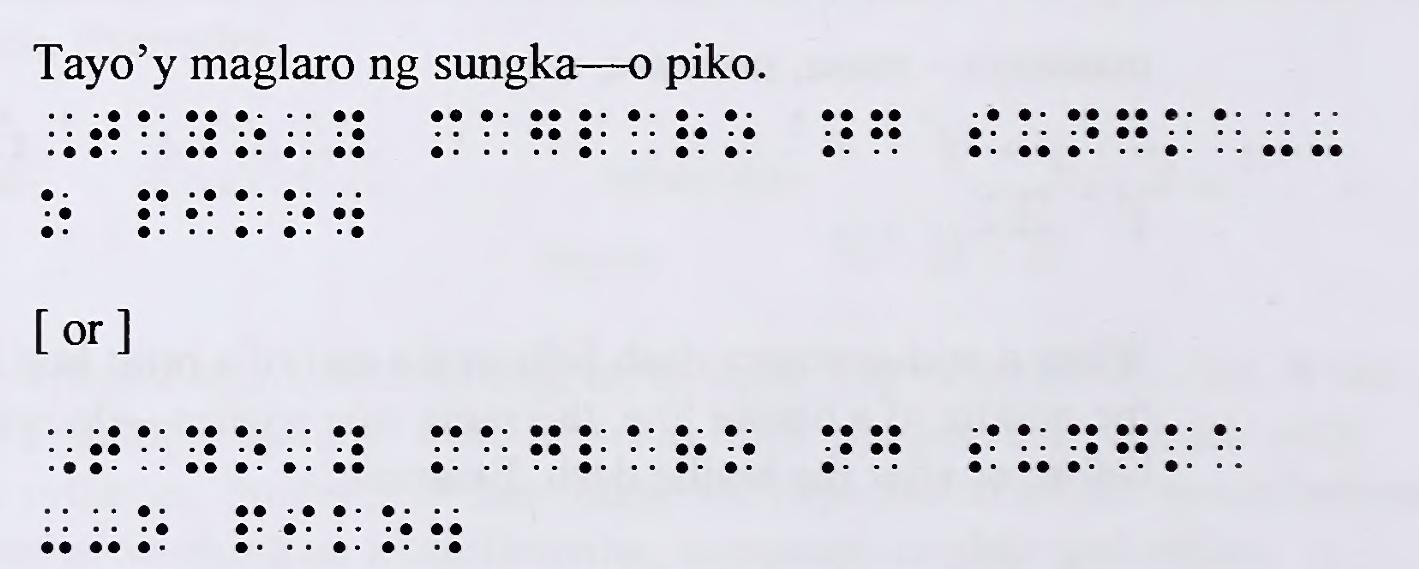T: (89, 424, 122, 474), (90, 109, 120, 159)
a: (627, 108, 656, 156), (480, 109, 509, 156), (137, 425, 166, 472), (627, 424, 656, 471), (137, 110, 166, 156), (1214, 423, 1243, 469), (480, 425, 509, 470), (1215, 108, 1242, 154)
capital: (48, 428, 76, 474), (48, 113, 76, 158)
g: (529, 108, 562, 156), (1117, 421, 1148, 470), (1116, 108, 1149, 154), (529, 424, 561, 471), (870, 424, 902, 471), (871, 109, 901, 155)
i: (185, 188, 217, 236), (283, 504, 315, 551)
k: (333, 504, 362, 554), (235, 189, 263, 239), (1165, 422, 1193, 472), (1165, 108, 1193, 157)
l: (578, 425, 607, 474), (578, 109, 606, 159)
m: (431, 109, 463, 159), (431, 425, 462, 474)
n: (821, 424, 854, 474), (1067, 108, 1099, 158), (822, 109, 853, 158), (1068, 424, 1098, 473)
o: (724, 423, 756, 474), (283, 189, 315, 239), (137, 505, 169, 554), (380, 505, 412, 554), (40, 189, 71, 239), (236, 425, 266, 475), (725, 109, 755, 158), (236, 110, 266, 158)
p: (137, 188, 169, 239), (235, 505, 267, 554)
r: (676, 108, 707, 158), (676, 425, 707, 474)
s: (968, 108, 999, 158), (969, 424, 1000, 473)
u: (1019, 108, 1050, 158), (1018, 423, 1049, 473)
y: (332, 425, 366, 476), (333, 109, 364, 159), (186, 110, 218, 158), (186, 425, 217, 474)
